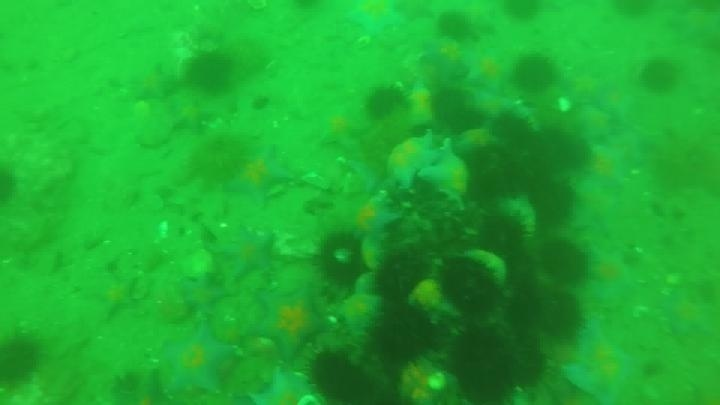echinus: (445, 327, 520, 403), (648, 129, 717, 196), (436, 254, 505, 317), (372, 304, 438, 365), (306, 350, 375, 404), (187, 133, 249, 186), (372, 250, 431, 305), (313, 231, 369, 288), (529, 125, 590, 176), (472, 148, 527, 200), (533, 289, 585, 341), (525, 178, 577, 229), (537, 238, 590, 288), (502, 335, 548, 390), (1, 332, 43, 389), (185, 49, 236, 95), (476, 213, 527, 258), (503, 288, 545, 332), (512, 54, 558, 94), (429, 87, 472, 129), (508, 243, 544, 291), (489, 111, 534, 149), (363, 84, 406, 121), (639, 58, 680, 95), (443, 105, 485, 137), (435, 11, 475, 43), (109, 370, 146, 402), (500, 1, 544, 24), (610, 1, 655, 20), (1, 166, 19, 206), (249, 93, 272, 113)
scallop: (396, 355, 459, 404), (406, 277, 462, 329), (461, 248, 510, 292), (495, 194, 539, 241)
starfish: (559, 324, 645, 404), (250, 287, 329, 361), (160, 327, 238, 397), (224, 147, 292, 207), (384, 133, 443, 190), (418, 147, 473, 208), (218, 228, 277, 280), (584, 247, 638, 303), (659, 290, 714, 340), (344, 195, 400, 244), (249, 367, 322, 404), (88, 273, 141, 321), (667, 7, 720, 52), (178, 274, 230, 319), (582, 145, 631, 192), (343, 1, 405, 38), (462, 49, 512, 93), (335, 291, 385, 334), (316, 107, 366, 149), (342, 153, 389, 196), (420, 37, 469, 78), (129, 64, 175, 103), (562, 71, 610, 108), (402, 81, 438, 129), (452, 126, 501, 160), (168, 97, 214, 133), (468, 90, 517, 123), (594, 83, 636, 121), (574, 106, 616, 144)
